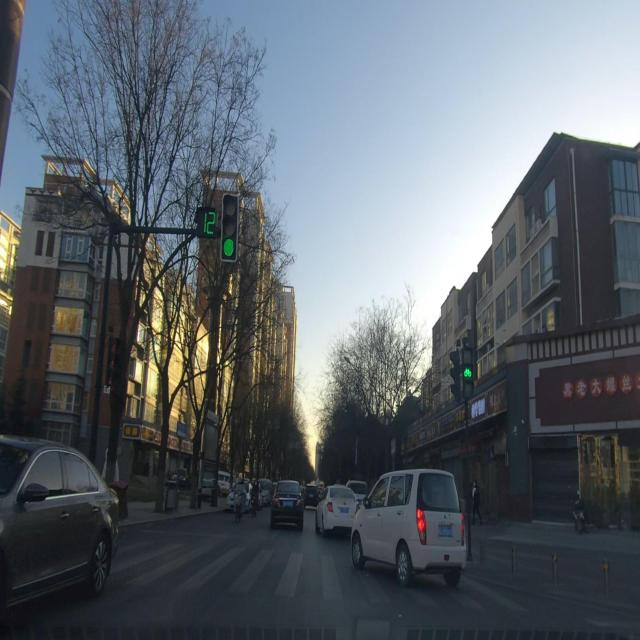car: (0, 431, 116, 602), (346, 468, 471, 587), (312, 474, 362, 536), (265, 472, 307, 531)
green: (194, 187, 243, 270), (459, 338, 475, 406)
stopline: (0, 535, 636, 608)
